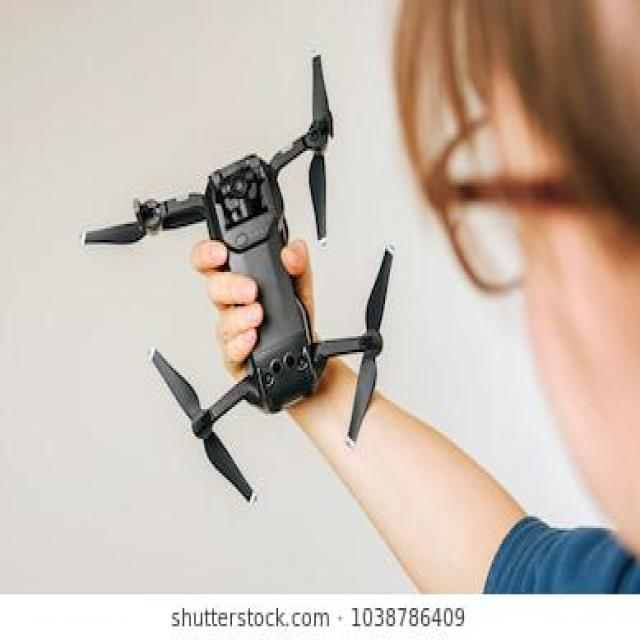drone: (79, 46, 412, 508)
